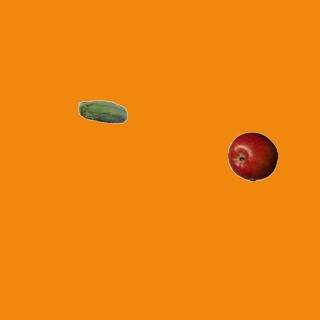Apple Braeburn: (227, 131, 277, 181)
Corn Husk: (77, 88, 127, 138)
